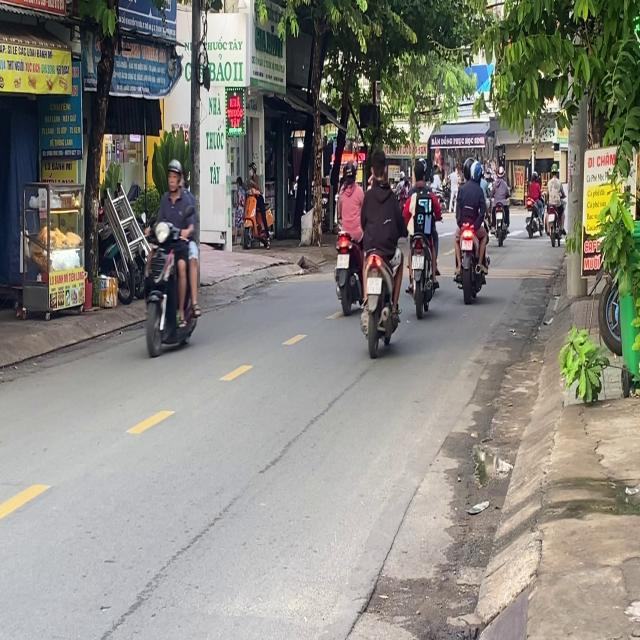helmet: (166, 158, 183, 192), (341, 156, 357, 184), (470, 158, 481, 180), (462, 156, 472, 179)
licenseplate: (140, 156, 202, 357), (359, 147, 405, 356), (404, 155, 442, 315), (450, 156, 490, 302), (332, 156, 365, 314)
motorcyclist: (369, 147, 388, 185), (413, 158, 426, 184)
nohelmet: (366, 276, 381, 293), (412, 254, 424, 268), (336, 253, 348, 267), (461, 238, 473, 250)
